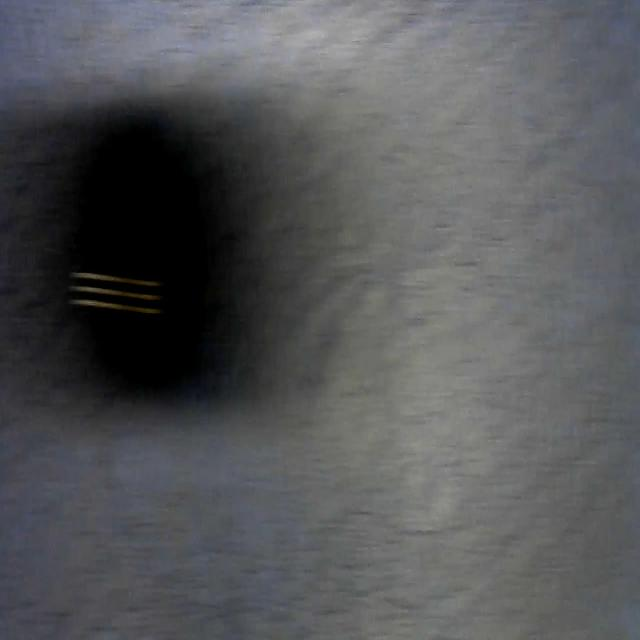BJT: (68, 264, 186, 327)
